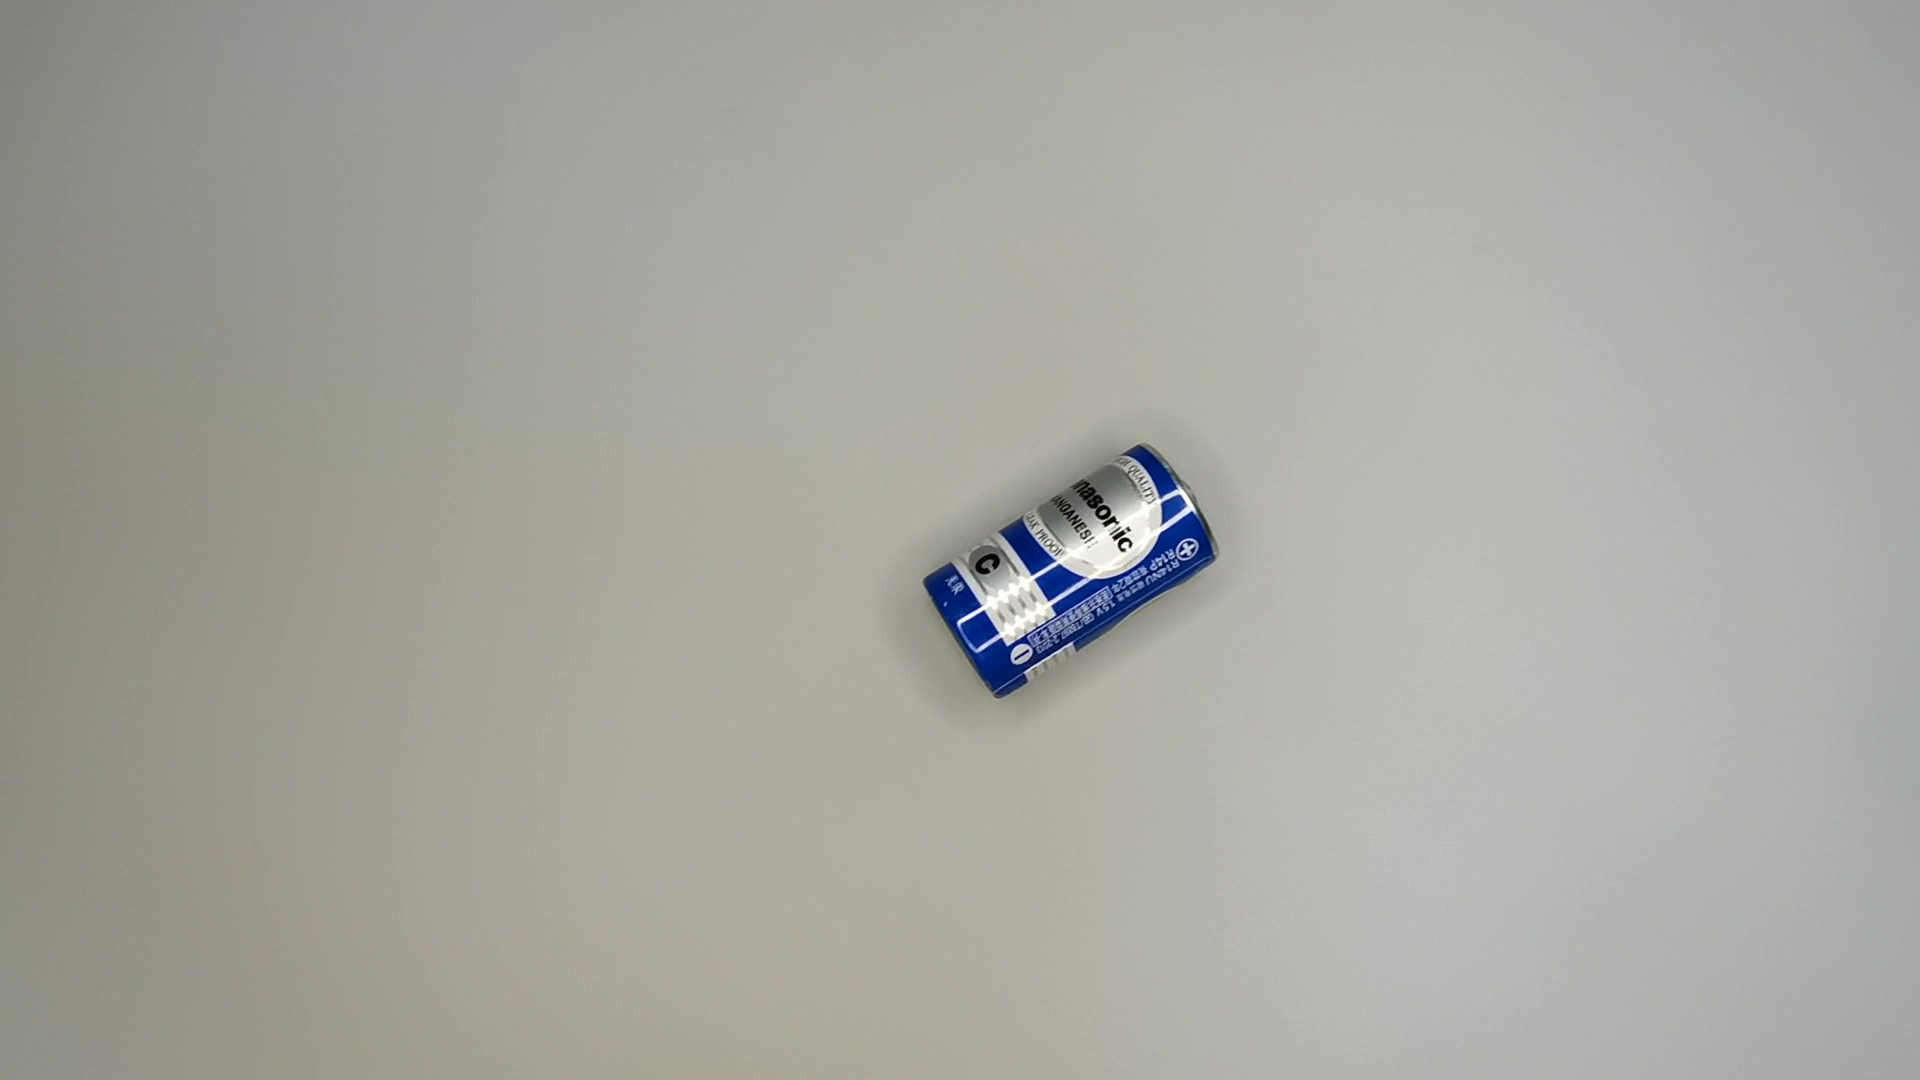battery: (916, 435, 1222, 705)
